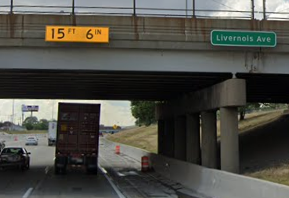1: (48, 25, 56, 41)
5: (55, 26, 66, 41)
6: (82, 28, 95, 40)
overheadsign: (44, 23, 110, 45)
